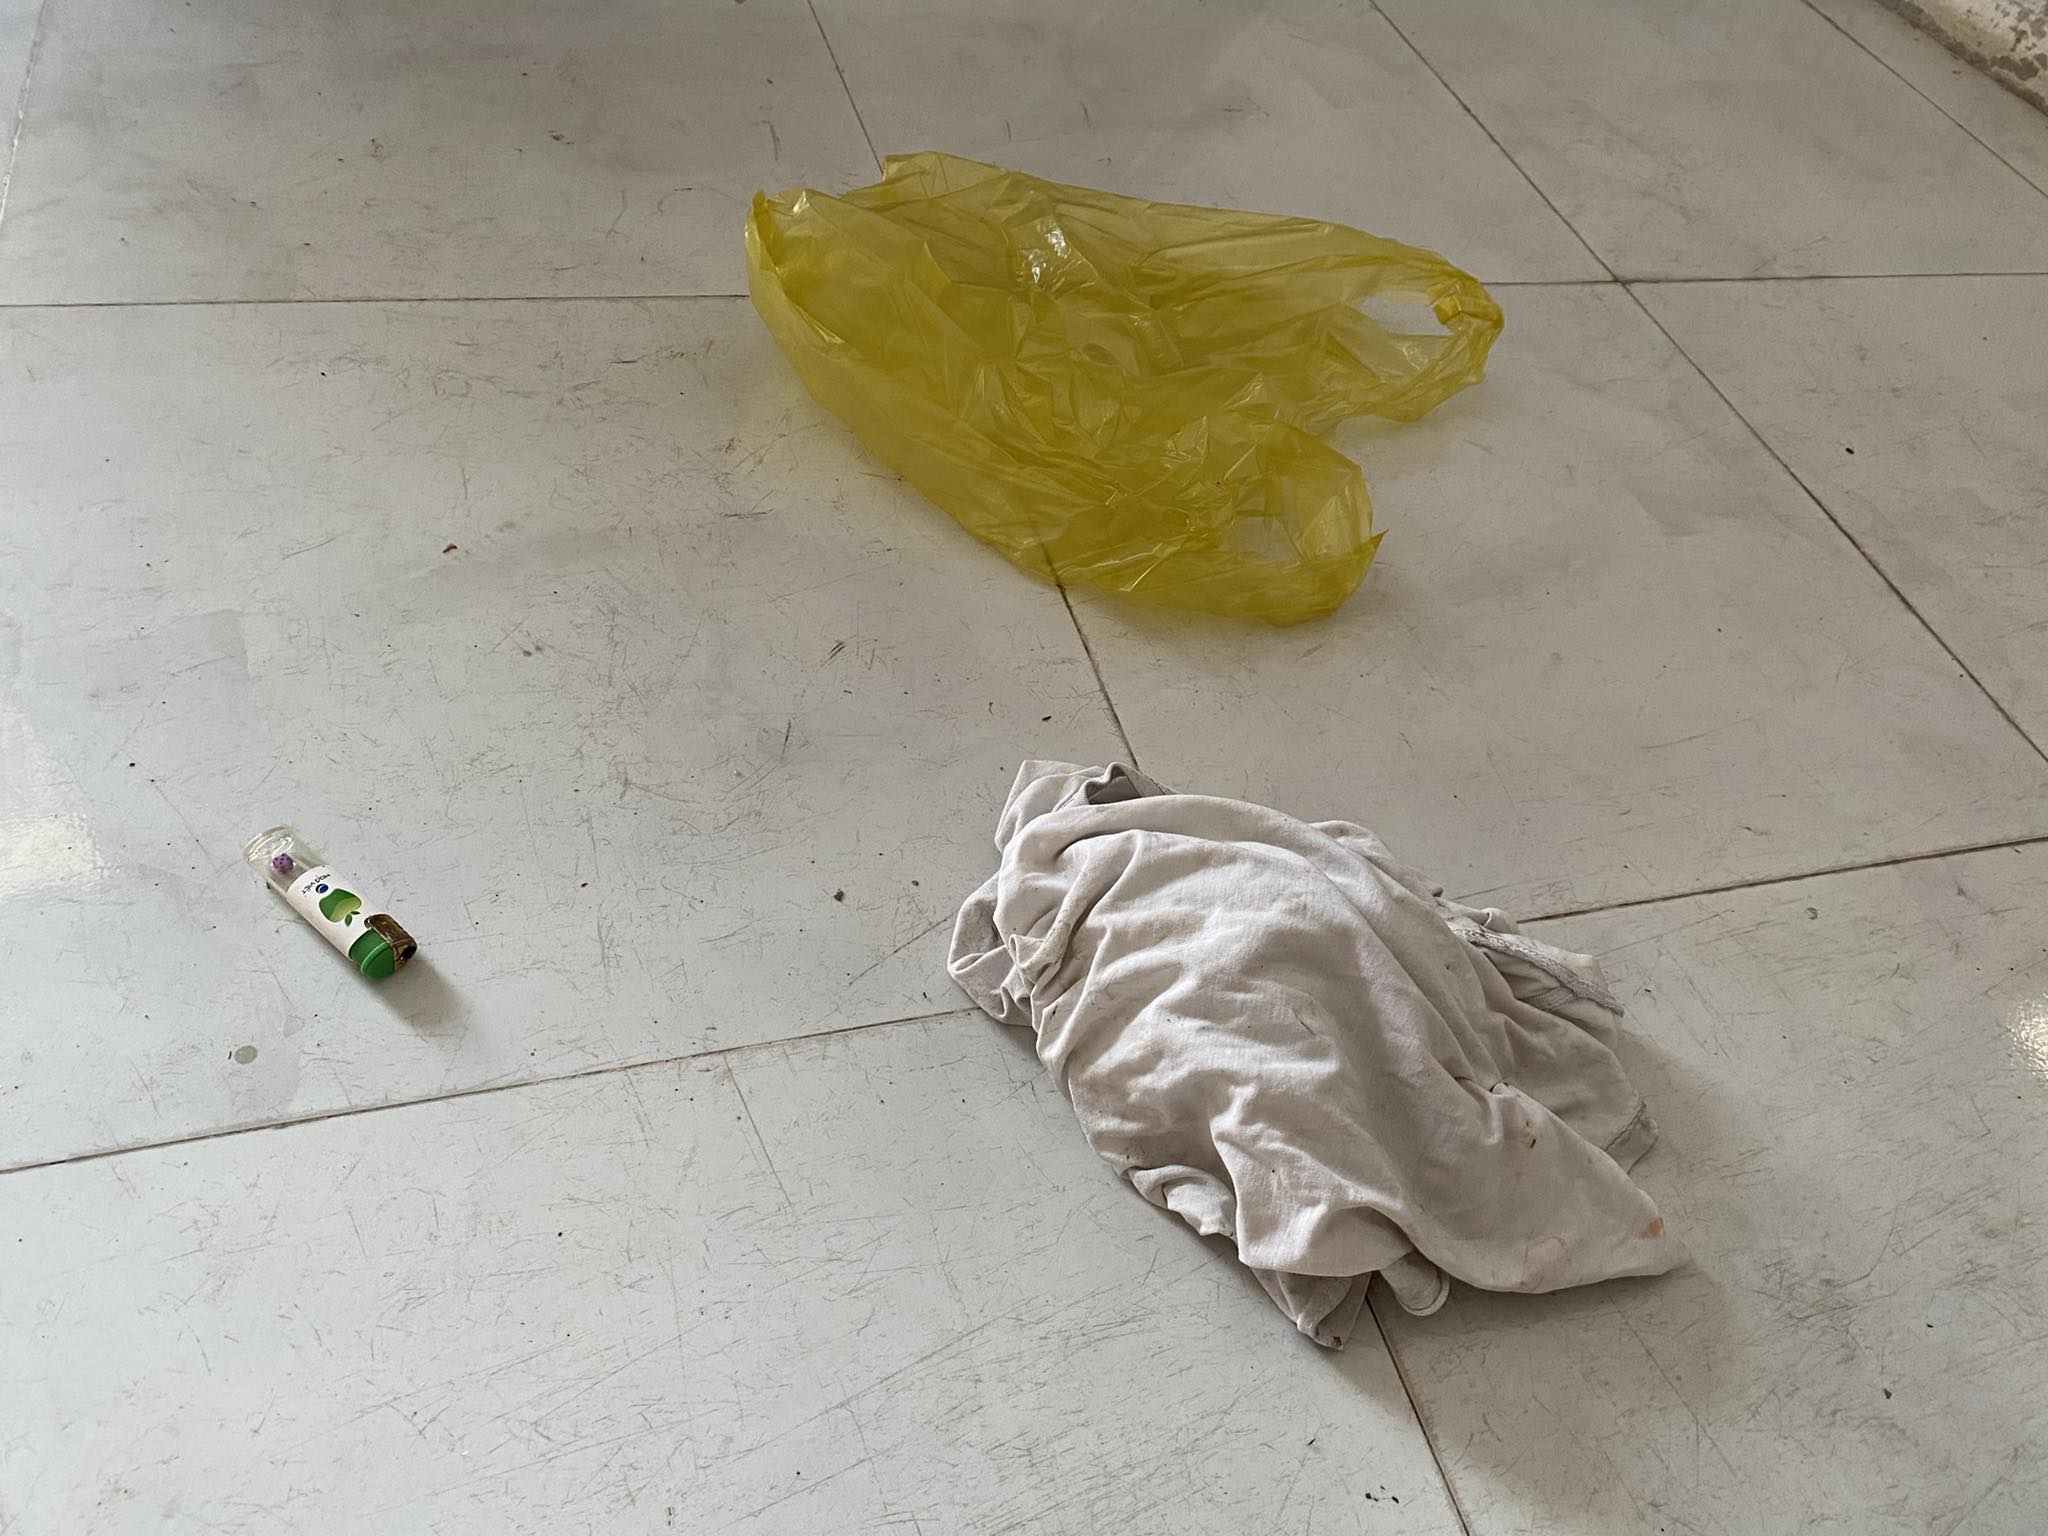clothes: (835, 758, 1732, 1370)
plastic: (235, 799, 437, 1021)
plastic bag: (729, 111, 1538, 655)
